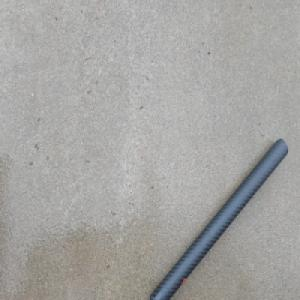LuggagePart: (149, 137, 288, 299)
